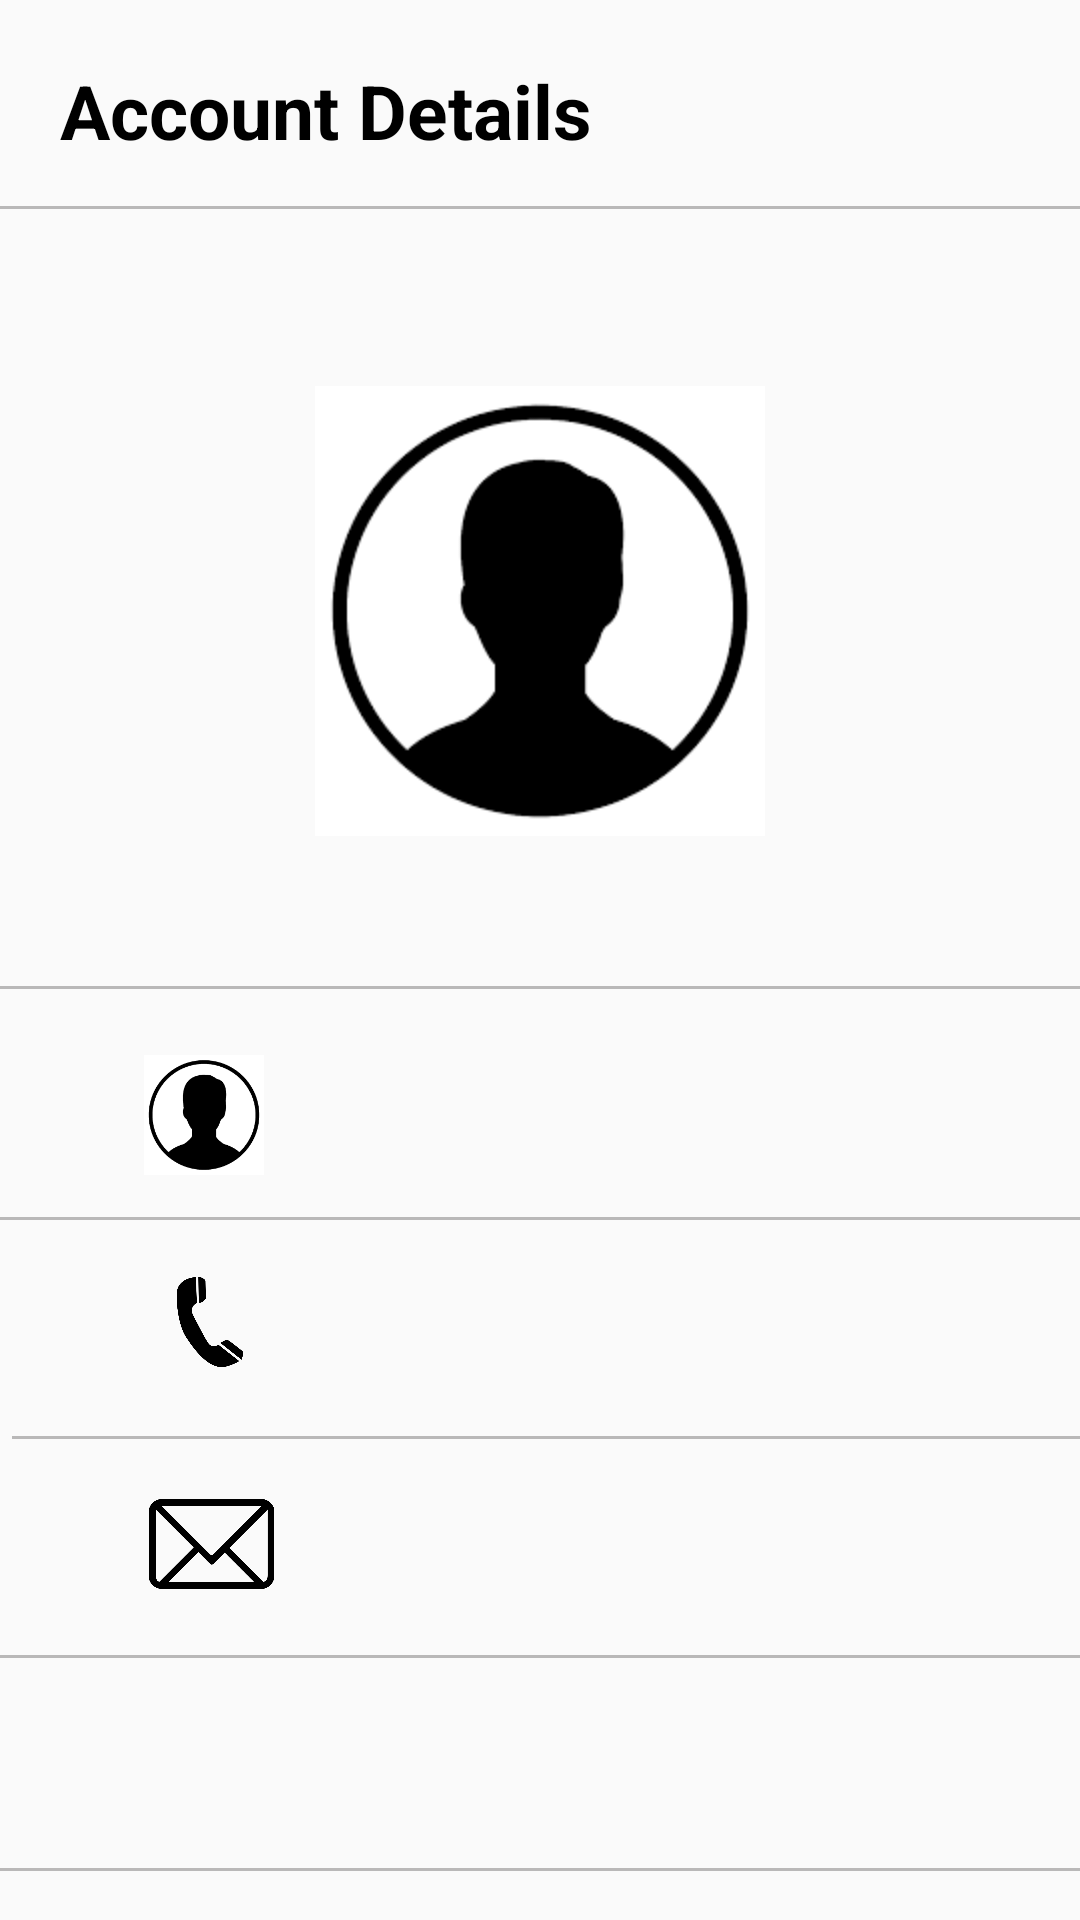

Where icons sit on this 1080w x 1920h app screen, as (x1, y1, x2, y2):
mail: (149, 1499, 274, 1589)
mobile: (177, 1277, 243, 1367)
